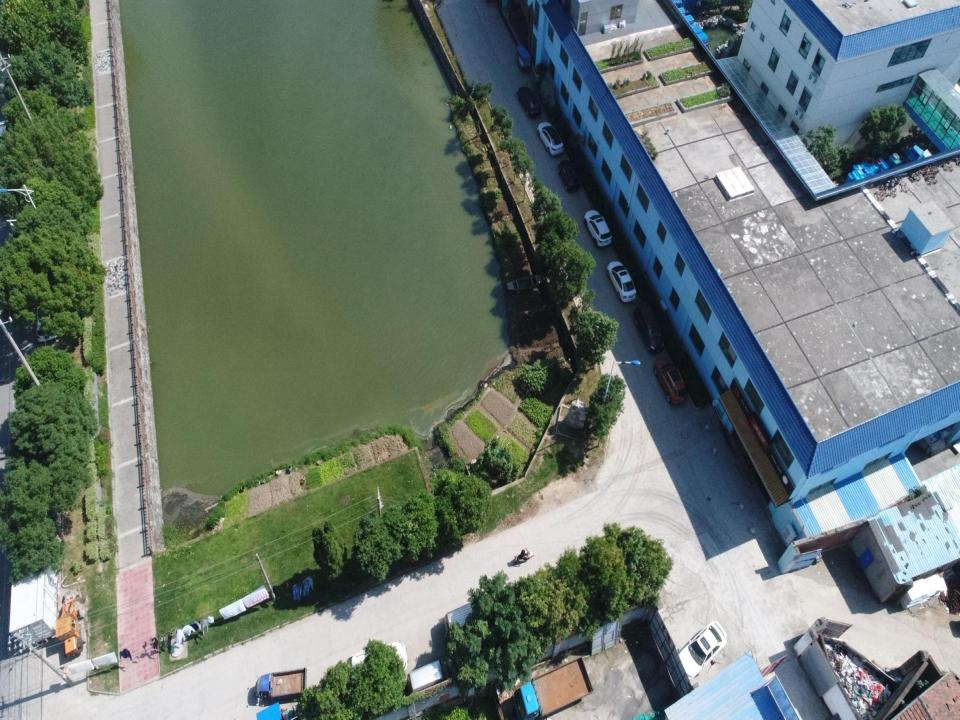car: (676, 621, 727, 677), (654, 356, 688, 406), (634, 303, 664, 352), (607, 261, 637, 303), (584, 210, 612, 248), (537, 122, 565, 157), (36, 304, 57, 343), (516, 86, 542, 116), (558, 160, 582, 192)
truck: (253, 666, 308, 702)
